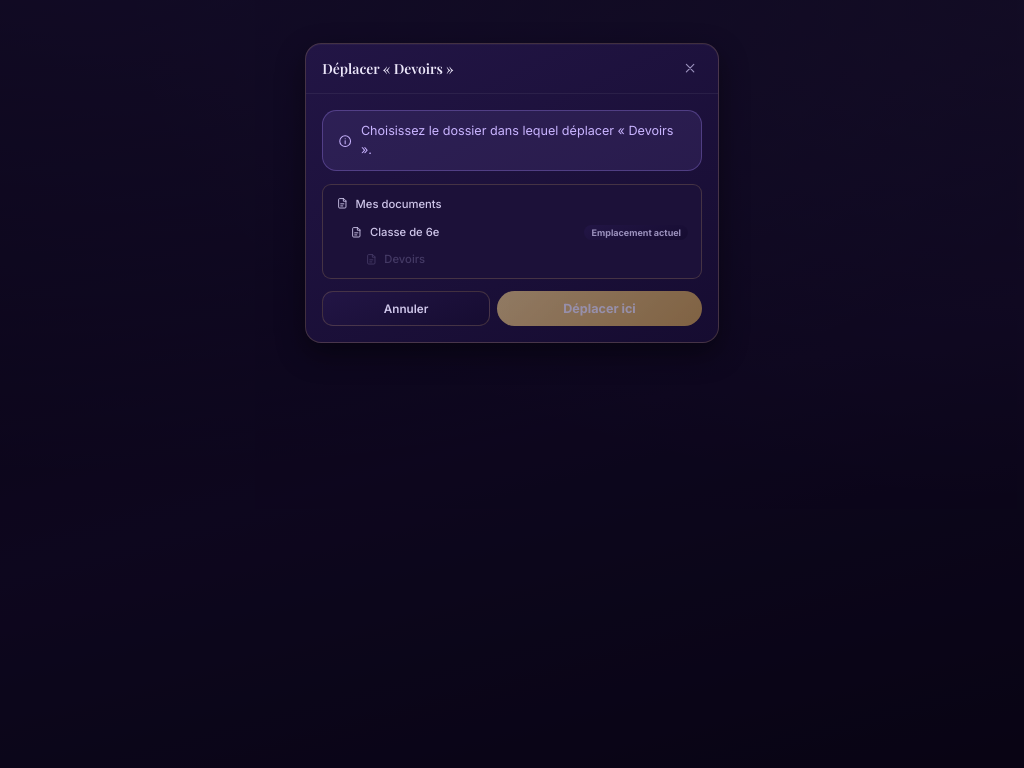
Test: DeplacerDossierModale › désactive le bouton tant que l’emplacement choisi est déjà l’emplacement actuel
Click the button "Classe de 6e Emplacement actuel": click(405, 232) [327,219,697,246]
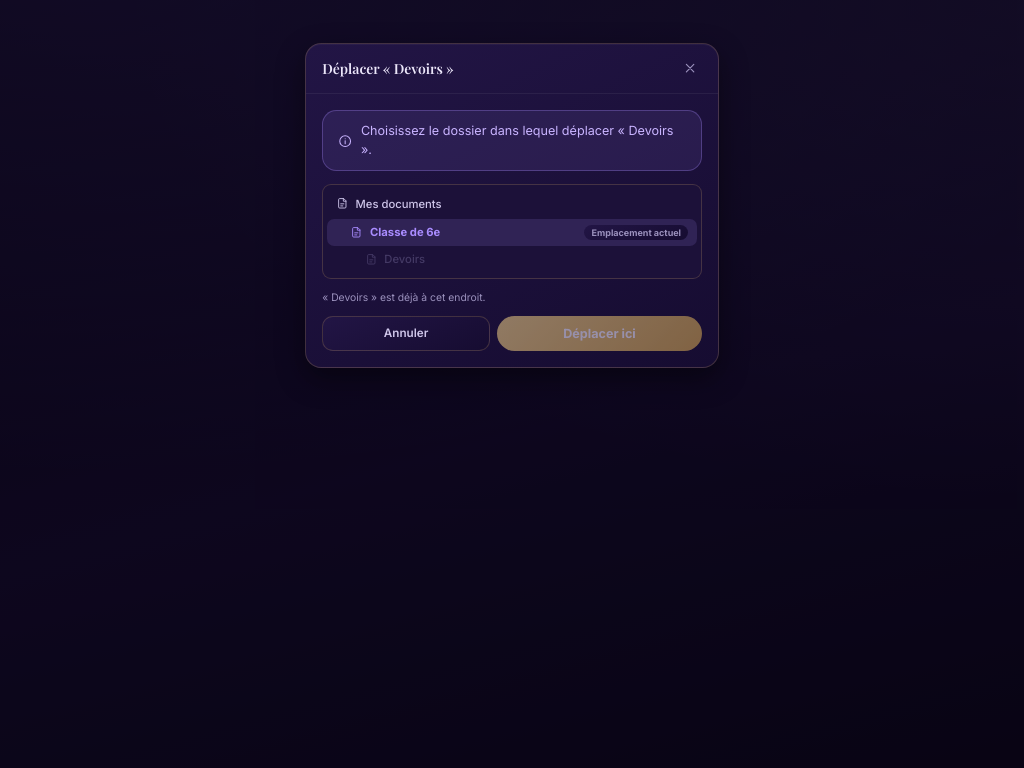
Expected: the button "Déplacer ici" is disabled, [497,316,702,351]
Expected: the text "« Devoirs » est déjà à cet endroit." is shown, [322,292,486,304]
